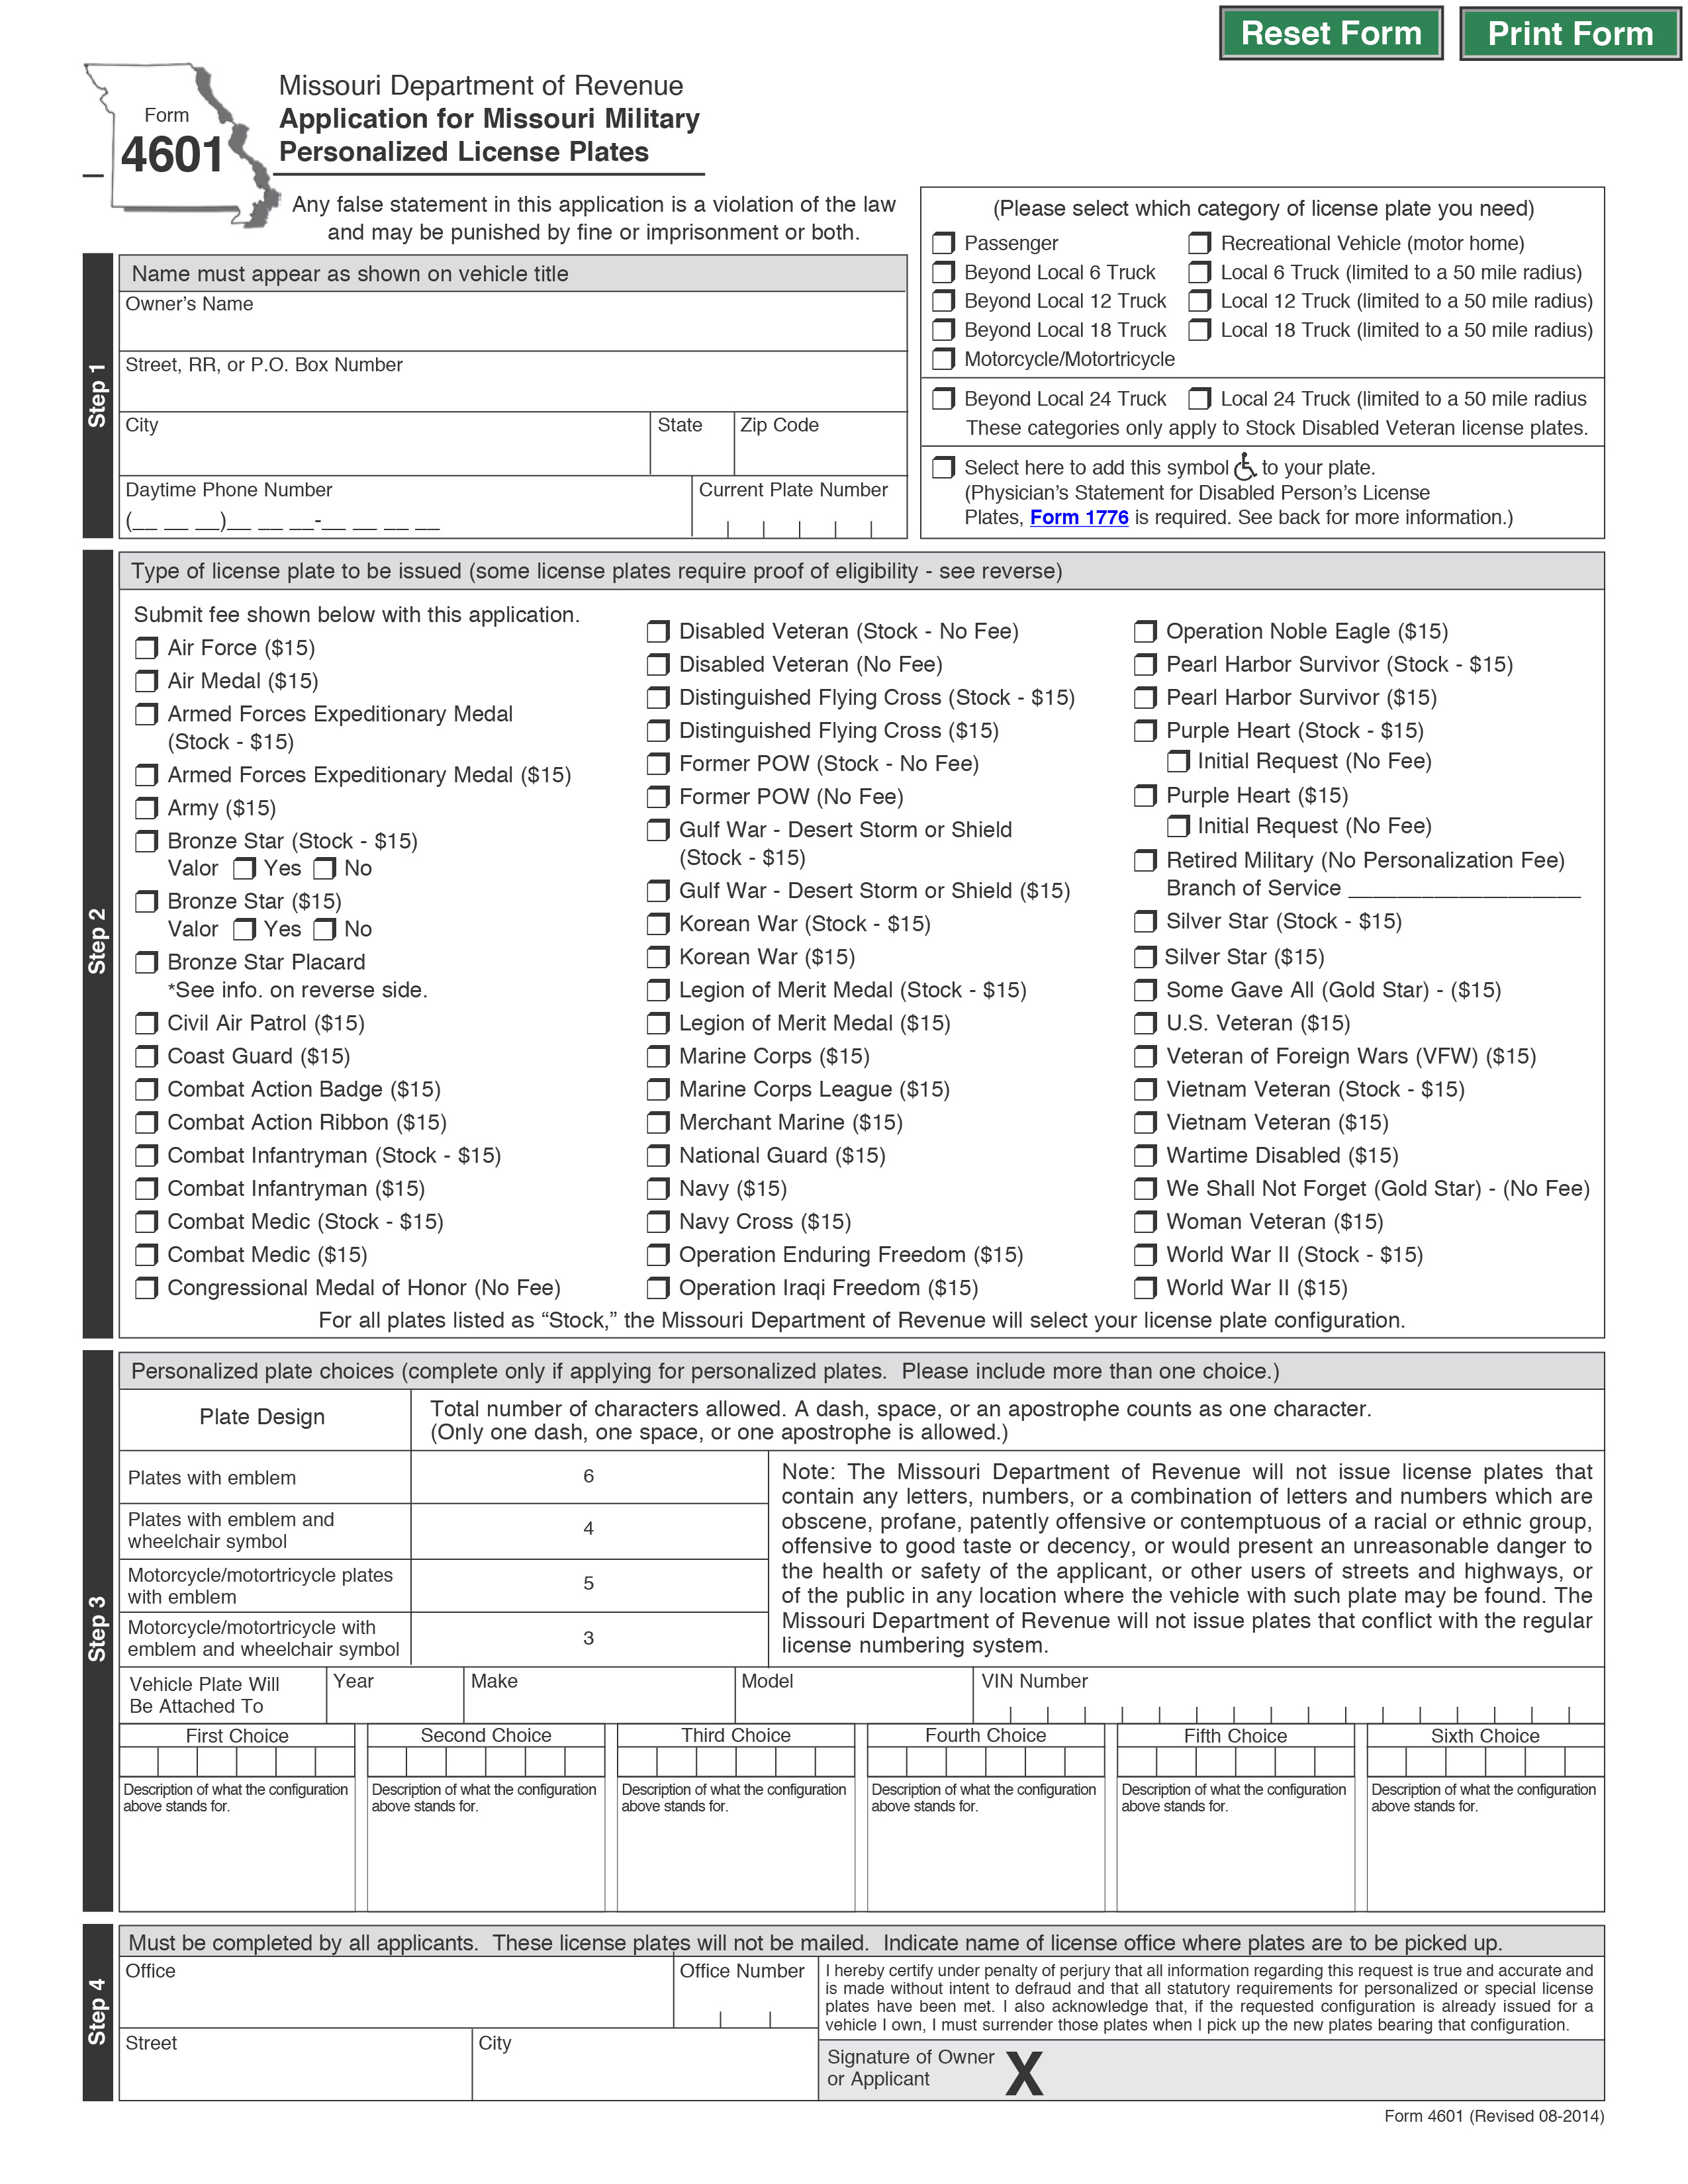table: (90, 174, 1605, 2094)
text: (277, 67, 697, 163), (1472, 12, 1654, 57), (1238, 16, 1427, 55), (119, 115, 227, 174), (1392, 2108, 1614, 2129)
